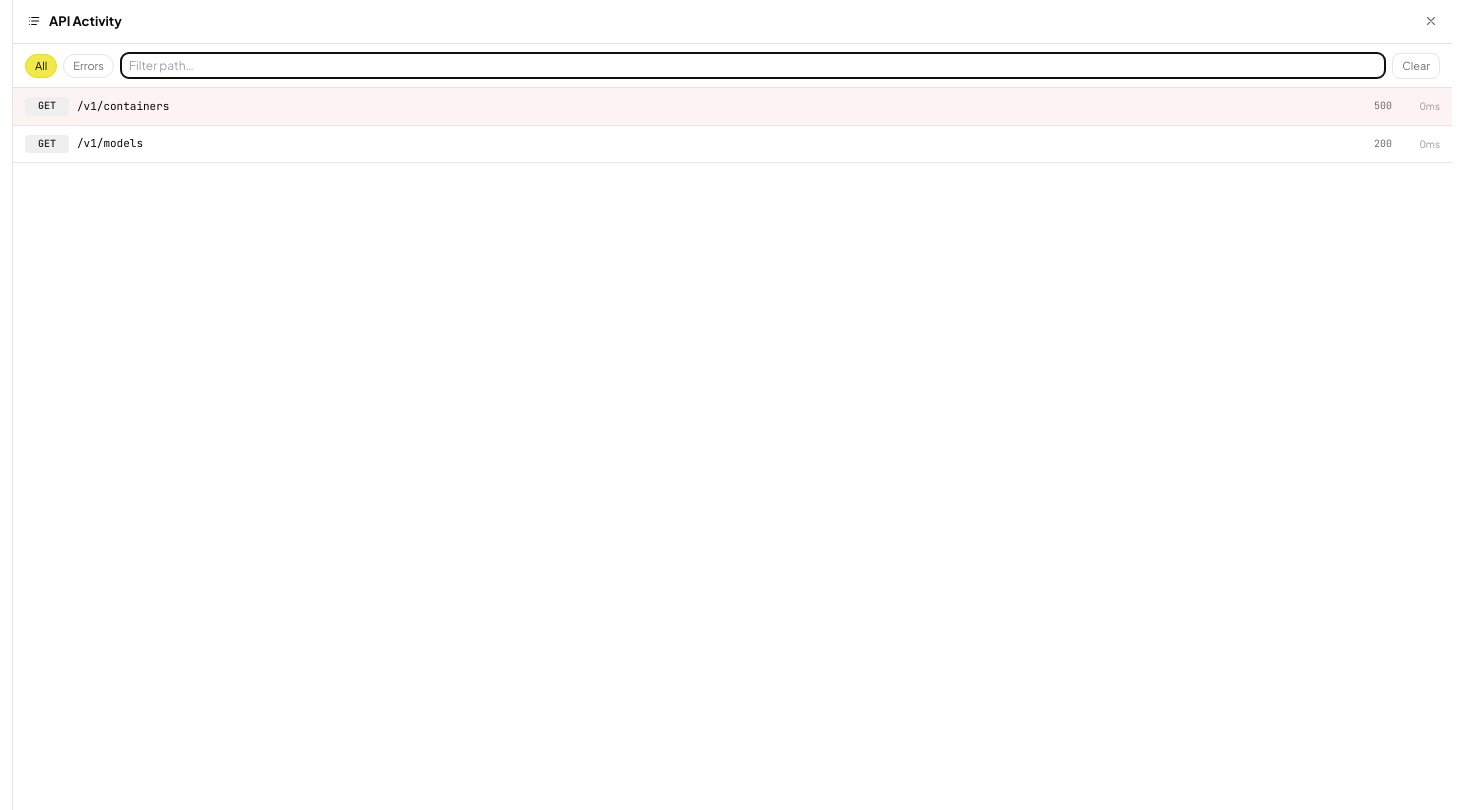
Scenario: ApiActivityPanel › filters to errors only
Click the button "Errors" at point(89, 66), box [63,54,114,78]
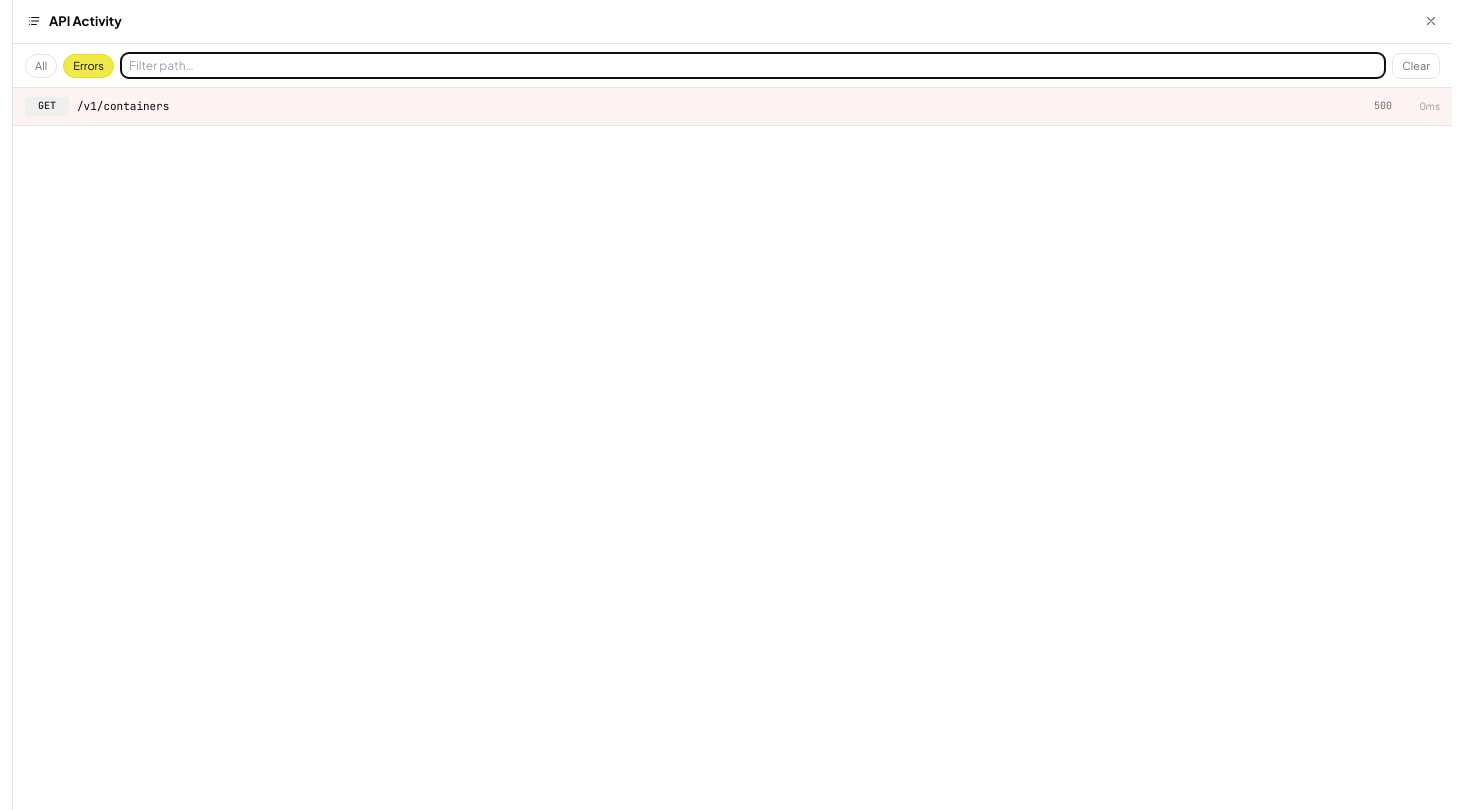
Check: the text "/v1/containers" is shown, box [77,98,169,112]
Check: the button "/v1/models" is gone
